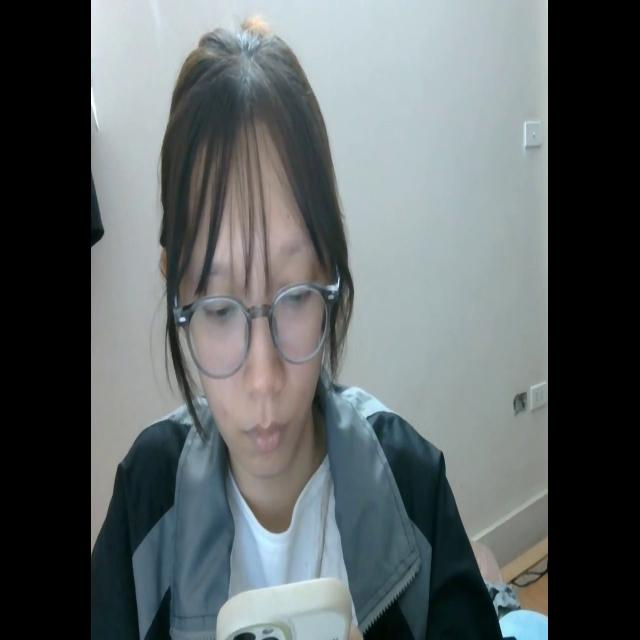phone: (213, 572, 351, 640)
student: (94, 15, 500, 640)
